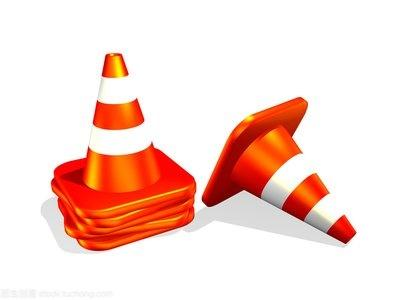cone_barrel: (198, 95, 355, 242), (74, 49, 163, 198)
